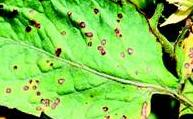Tomato leaf bacterial spot: (0, 0, 176, 119)
